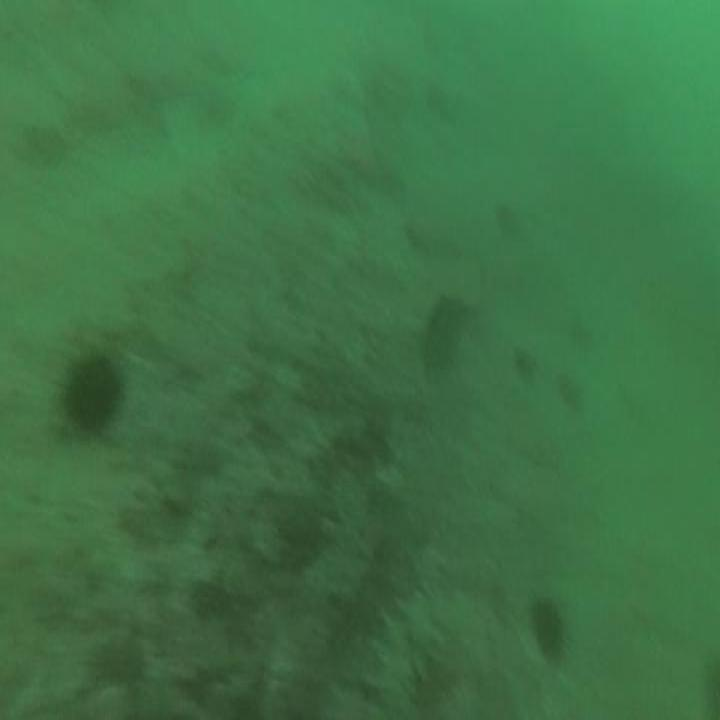echinus: (65, 356, 118, 430), (427, 295, 463, 366), (533, 594, 562, 658)
